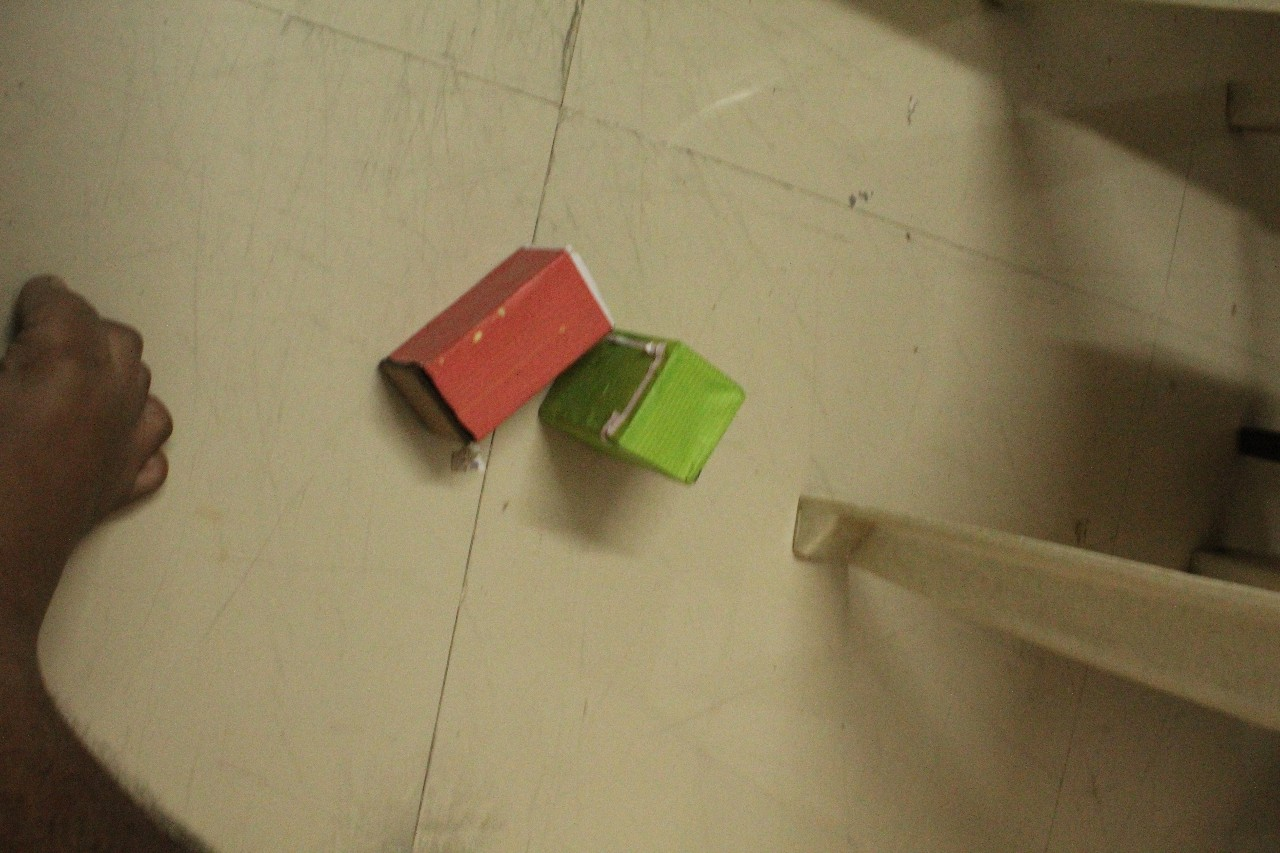green: (531, 319, 757, 493)
red: (378, 240, 623, 453)
